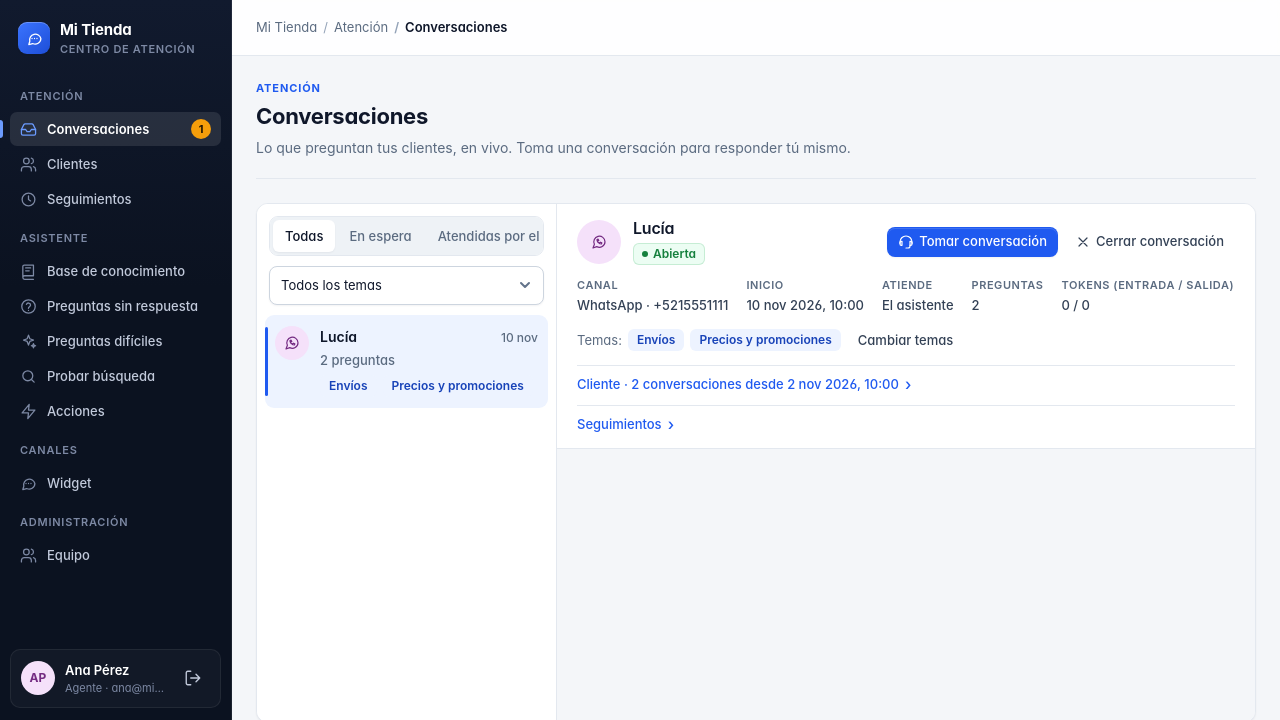
Scenario: Conversation topics › filters conversations by topic and lets the team correct them
This screenshot has width=1280, height=720.
Check: the text "Envíos" next to "Temas:" is shown, box x1=637 y1=332 x2=675 y2=347
Check: the text "Precios y promociones" in the row of "Temas:" is shown, box x1=699 y1=332 x2=832 y2=347
Select "Devoluciones" in the dropdown named "Tema" at point(406, 285), box x1=269 y1=266 x2=544 y2=304
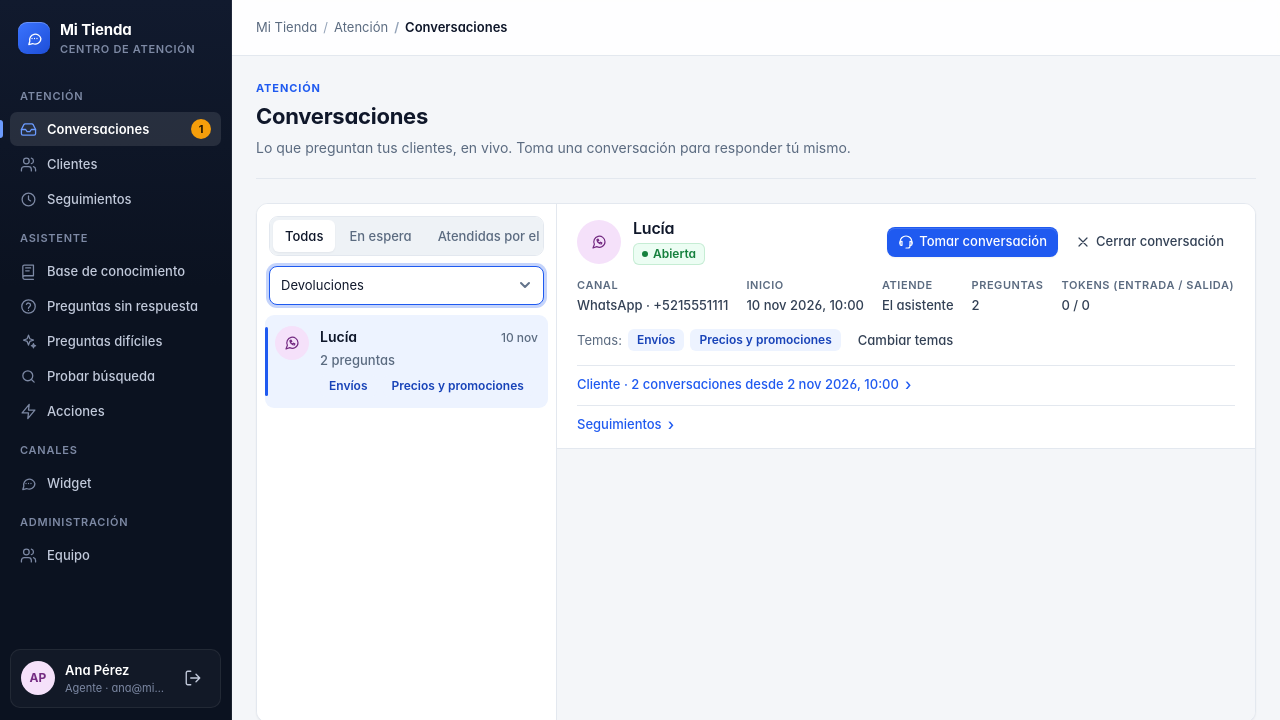
Click the button "Cambiar temas" at point(906, 340), box x1=847 y1=325 x2=964 y2=355
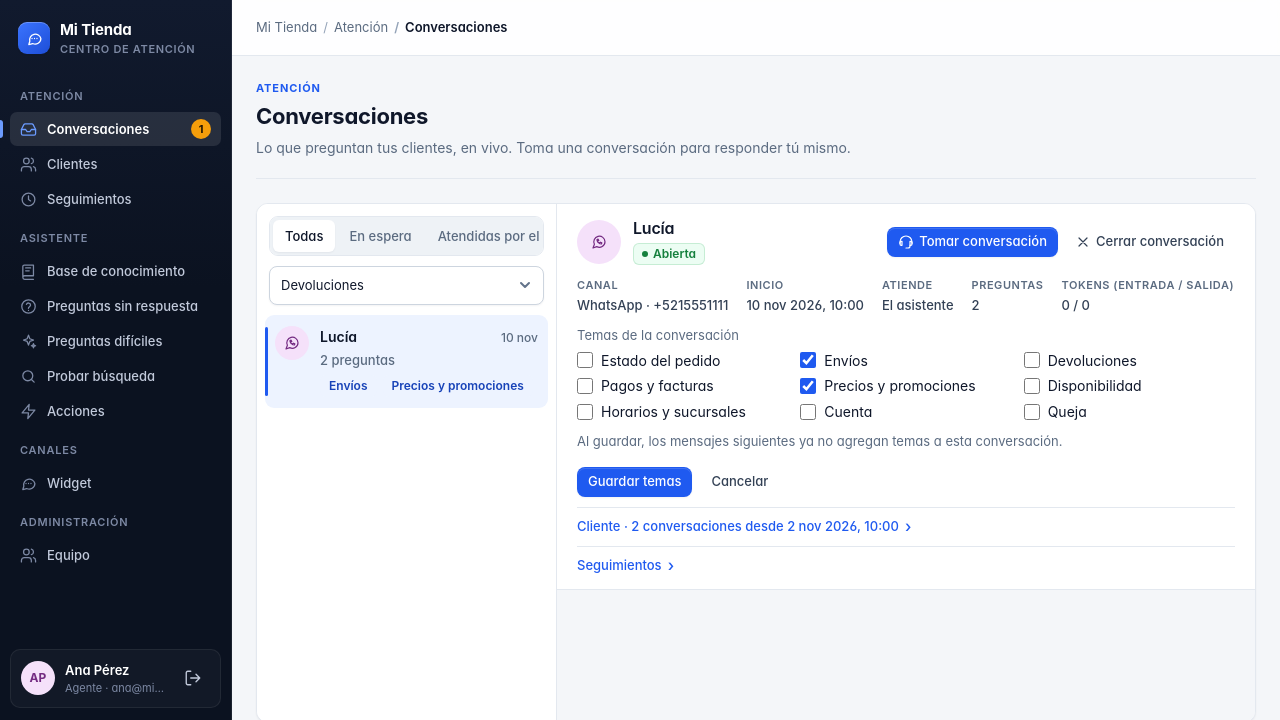
Click the checkbox labelled "Precios y promociones" at point(808, 386), box x1=800 y1=378 x2=816 y2=394
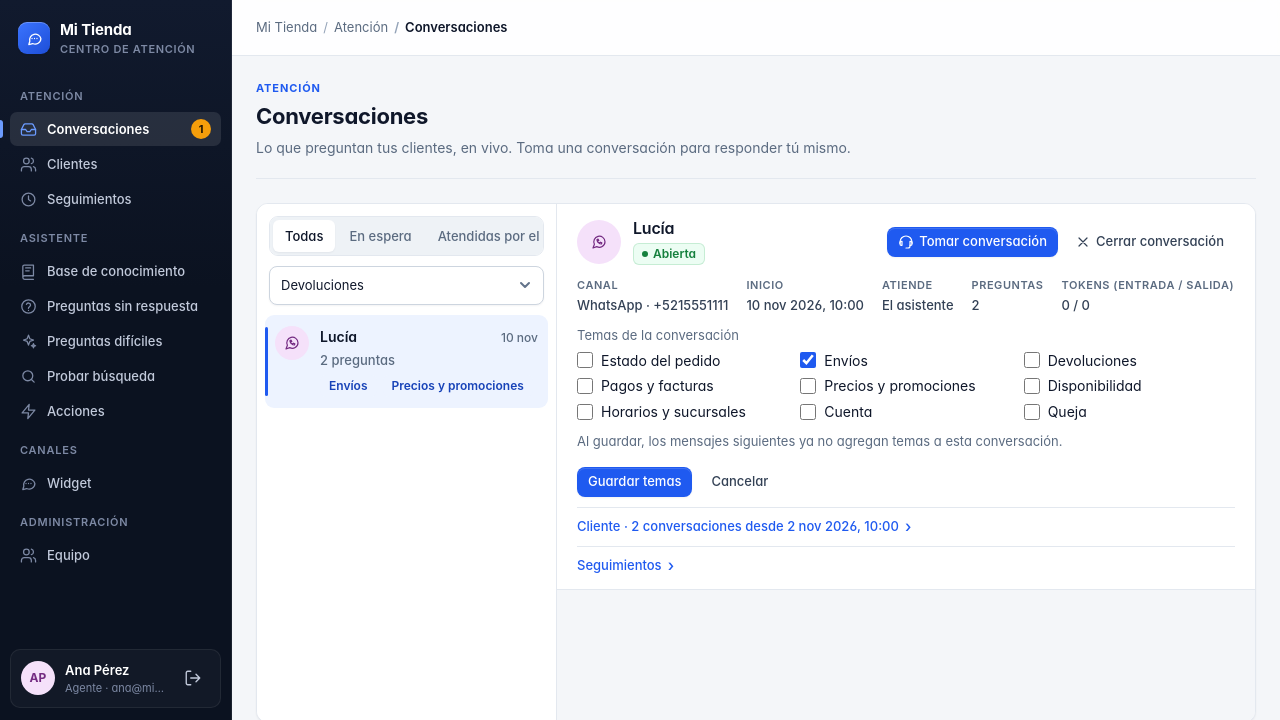
Click the checkbox labelled "Devoluciones" at point(1032, 360), box x1=1024 y1=352 x2=1040 y2=368
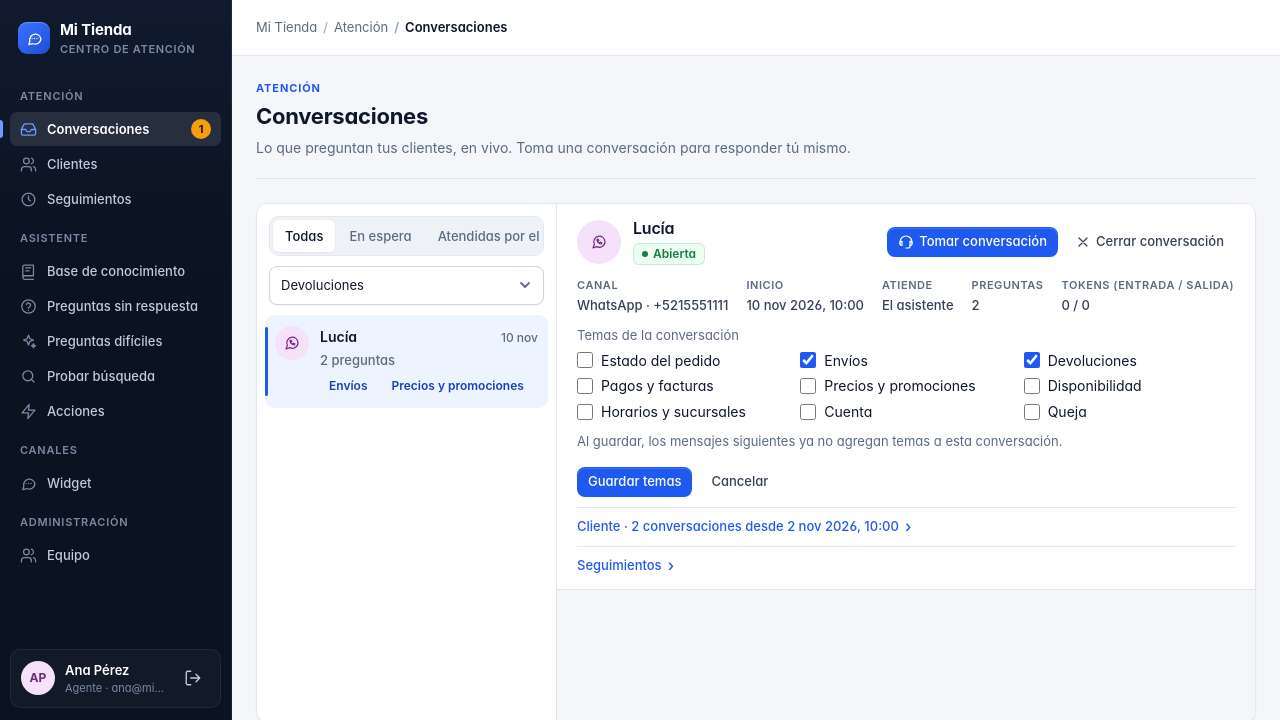
Click the button "Guardar temas" at point(635, 482), box x1=577 y1=467 x2=692 y2=497
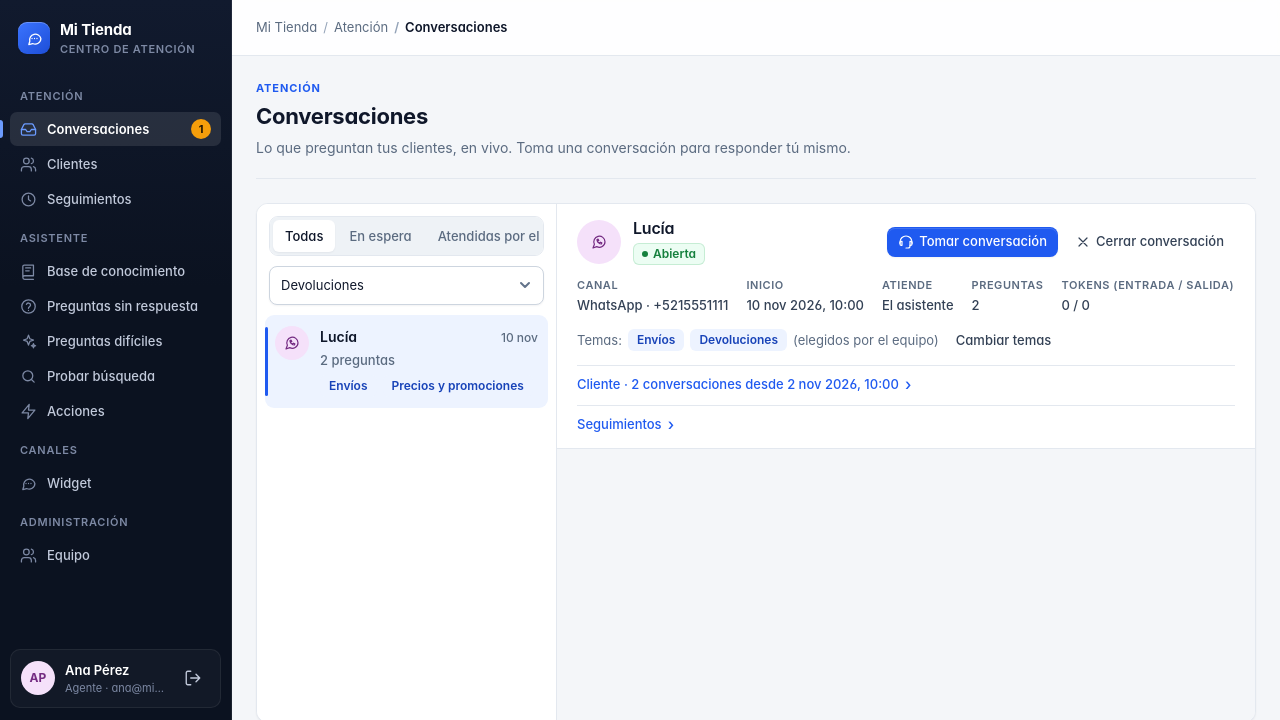
Check: the text "(elegidos por el equipo)" is shown, box x1=793 y1=330 x2=939 y2=350
